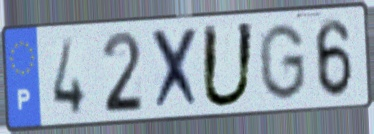2: (99, 29, 145, 115)
4: (49, 33, 90, 118)
6: (312, 16, 355, 101)
G: (256, 21, 309, 103)
U: (199, 19, 258, 111)
X: (149, 24, 204, 115)
